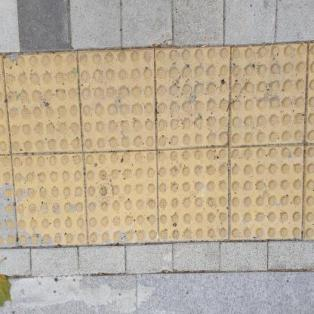Podoctatil: (0, 32, 313, 259)
